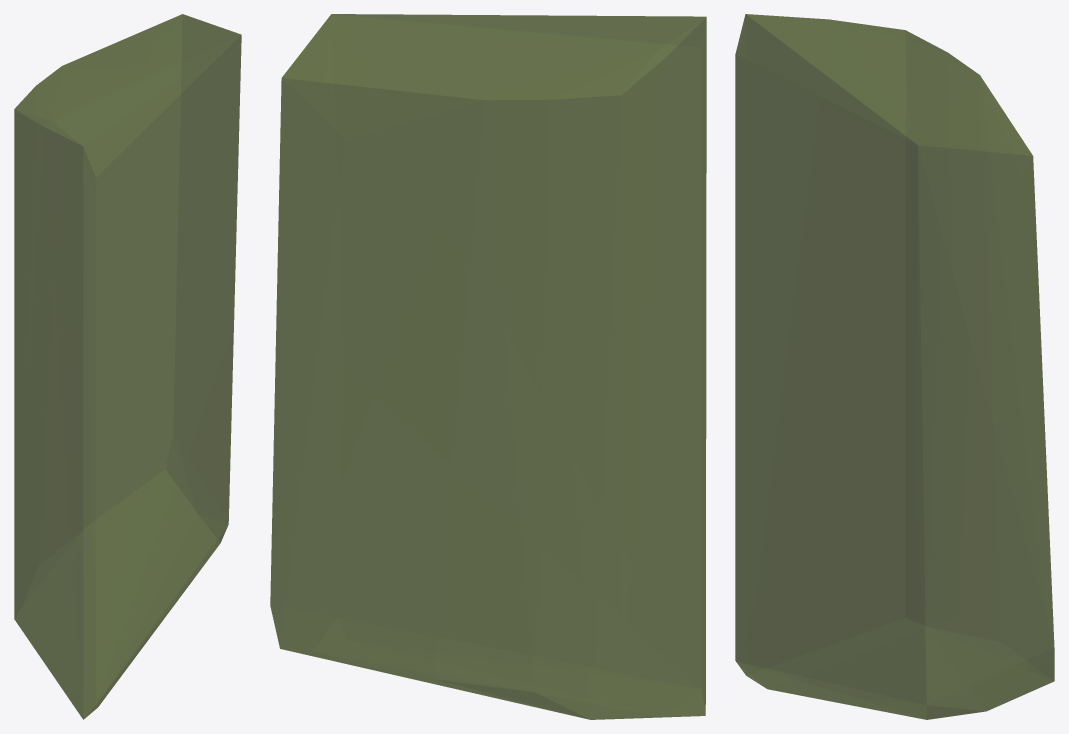
The picture shows the model from 3 angles, left to right: view 1: azimuth 30°, elevation 25°; view 2: azimuth 150°, elevation 25°; view 3: azimuth 270°, elevation 25°; orthographic projection. The views are drawn at different scales.
Parts seen in each view (by area): view 1: Shape_IndexedFaceSet.020_Shape_IndexedFaceSet.18081; view 2: Shape_IndexedFaceSet.020_Shape_IndexedFaceSet.18081; view 3: Shape_IndexedFaceSet.020_Shape_IndexedFaceSet.18081.
Boxes of the visible parts, <box> form: Shape_IndexedFaceSet.020_Shape_IndexedFaceSet.18081: <box>14,14,241,719</box>; Shape_IndexedFaceSet.020_Shape_IndexedFaceSet.18081: <box>270,14,706,719</box>; Shape_IndexedFaceSet.020_Shape_IndexedFaceSet.18081: <box>735,14,1054,719</box>.
Size of the model in its own units: 0.0871 by 0.2027 by 0.0886.
